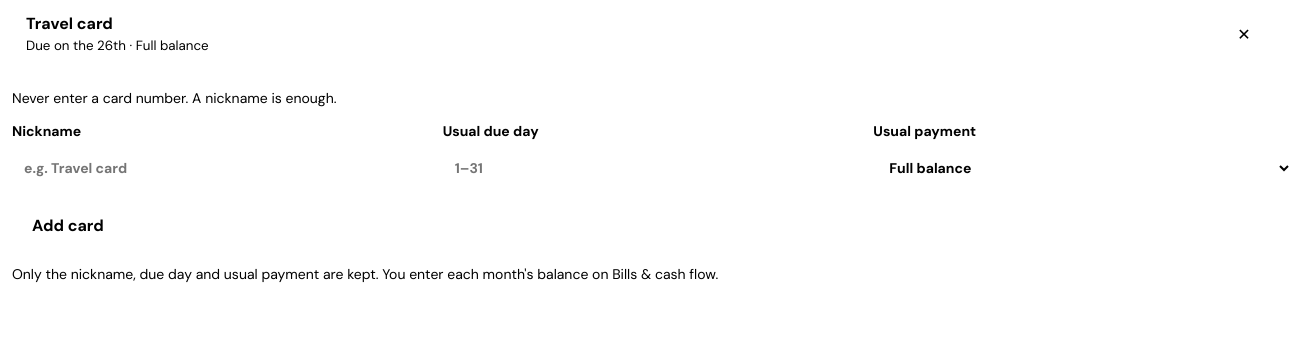
Scenario: P2-07 setup step 6: credit cards › says when a change fails
Click the button named "Remove Travel card" at (1244, 34), box top-left (1222, 12), bottom-right (1266, 56)
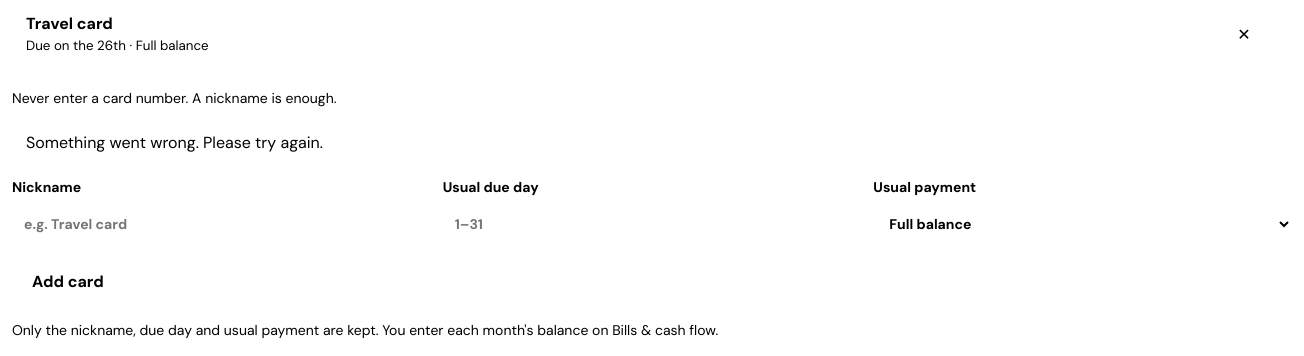
Check: the text "Travel card" is shown, box top-left (26, 13), bottom-right (113, 34)
Check: the message "Something went wrong. Please try again." is shown, box top-left (26, 132), bottom-right (323, 153)
